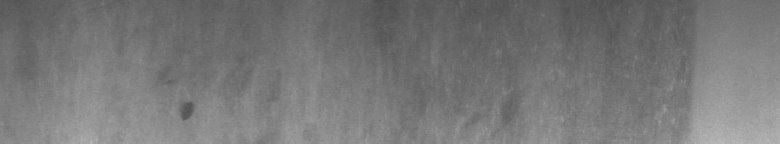fi: (164, 80, 200, 124)
